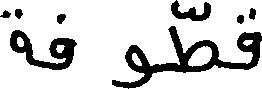X: (171, 0, 216, 77), (0, 4, 31, 69), (113, 40, 149, 88), (237, 3, 261, 74), (51, 9, 71, 74)
